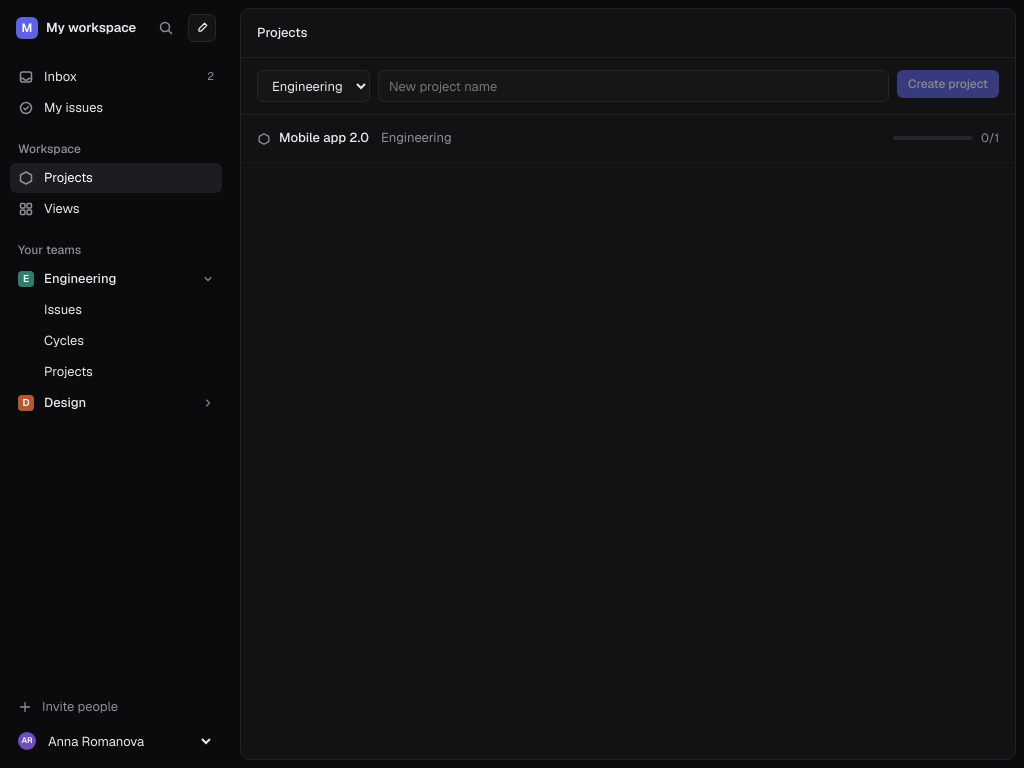
Test case: ProjectsPage › lists projects with progress and opens a project
Expected: the element named "0 of 1 done" is shown, [893,130,999,147]
Step 1. Click the link "Mobile app 2.0 Engineering 0/1" → click(324, 138), box [241,115,1015,163]
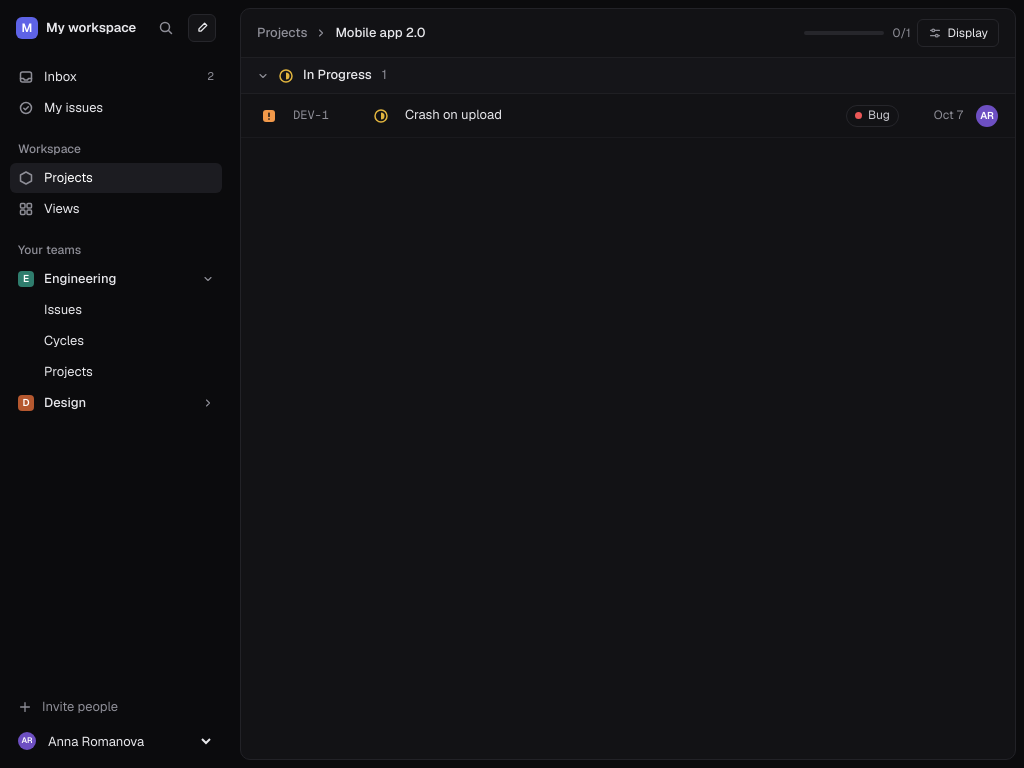
Now the link "Crash on upload" is shown, box [405,106,502,123]
